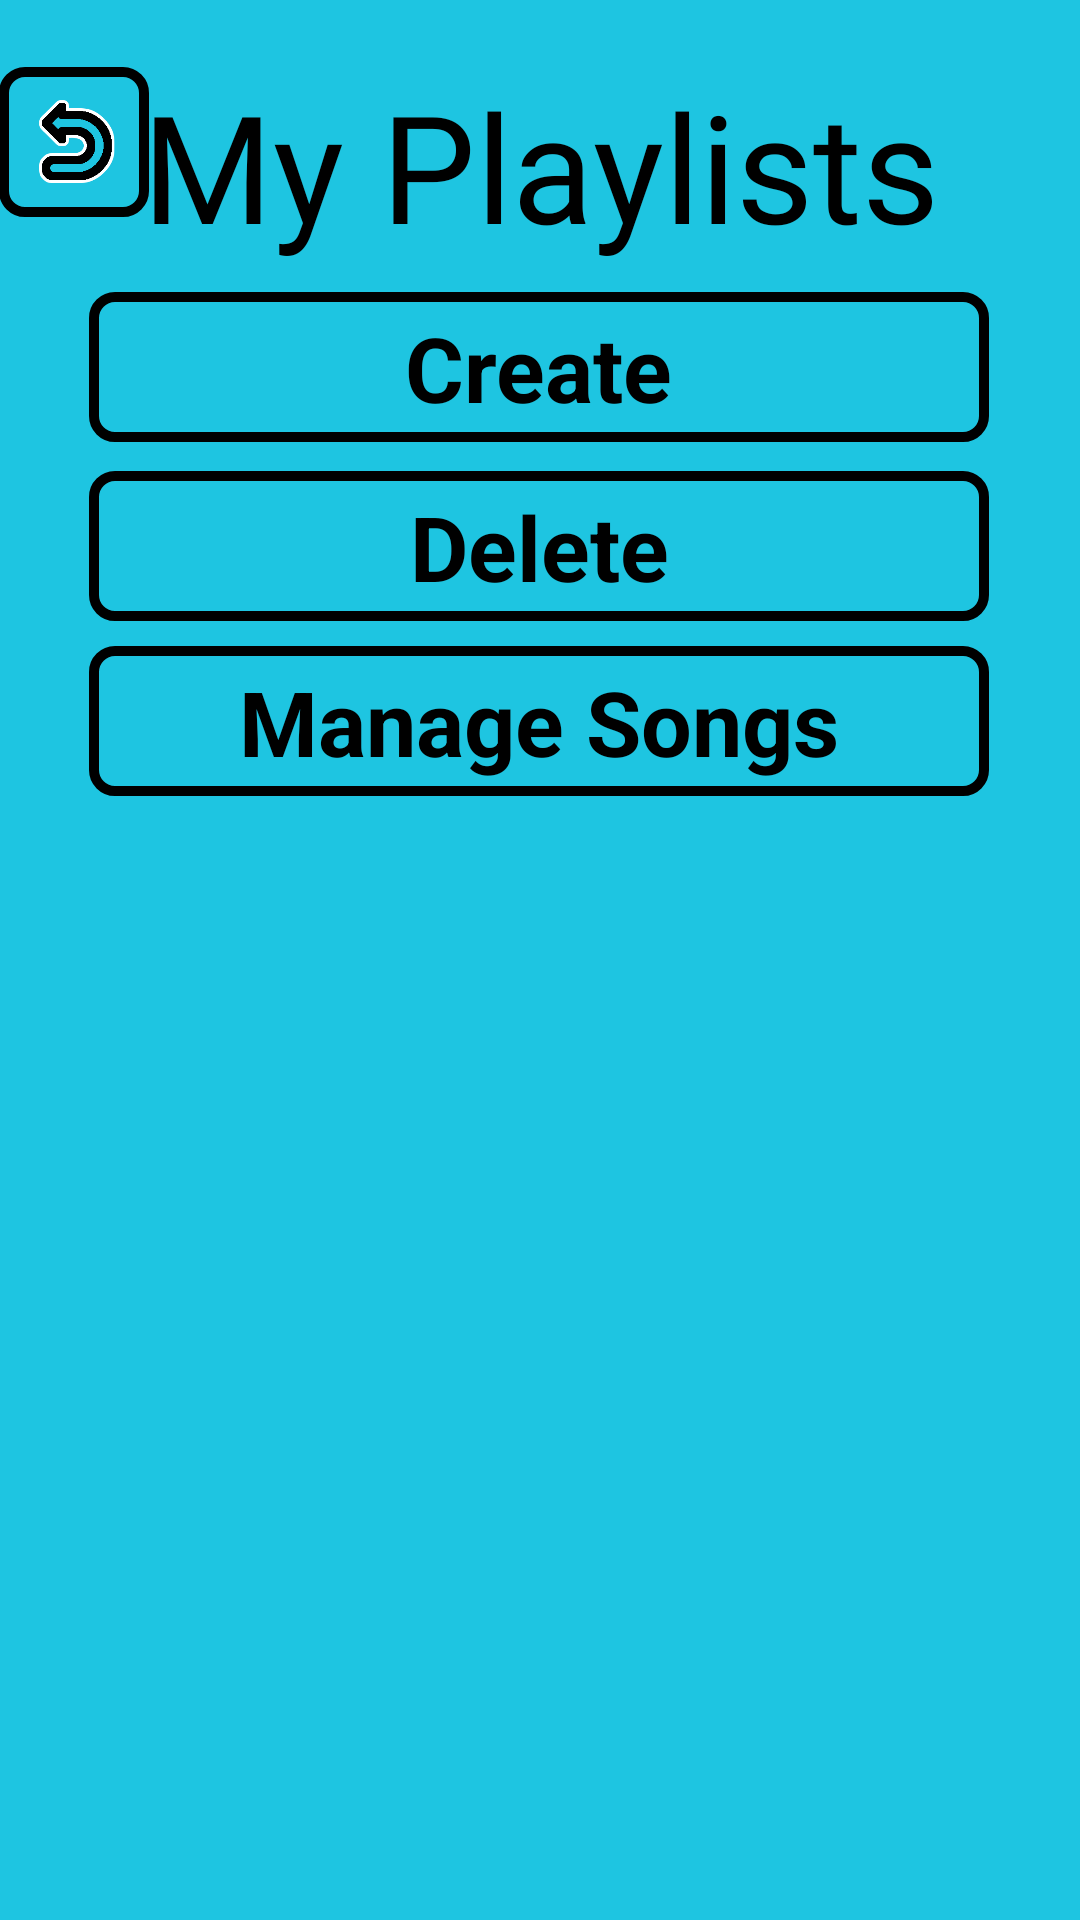

Where to tap for icons on this 1080×1920 app screen, as point (x, y):
back: point (77, 141)
